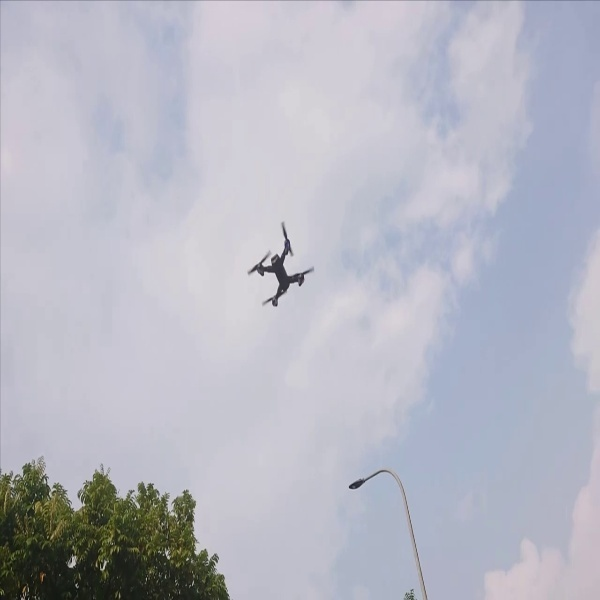drone: (238, 218, 323, 312)
